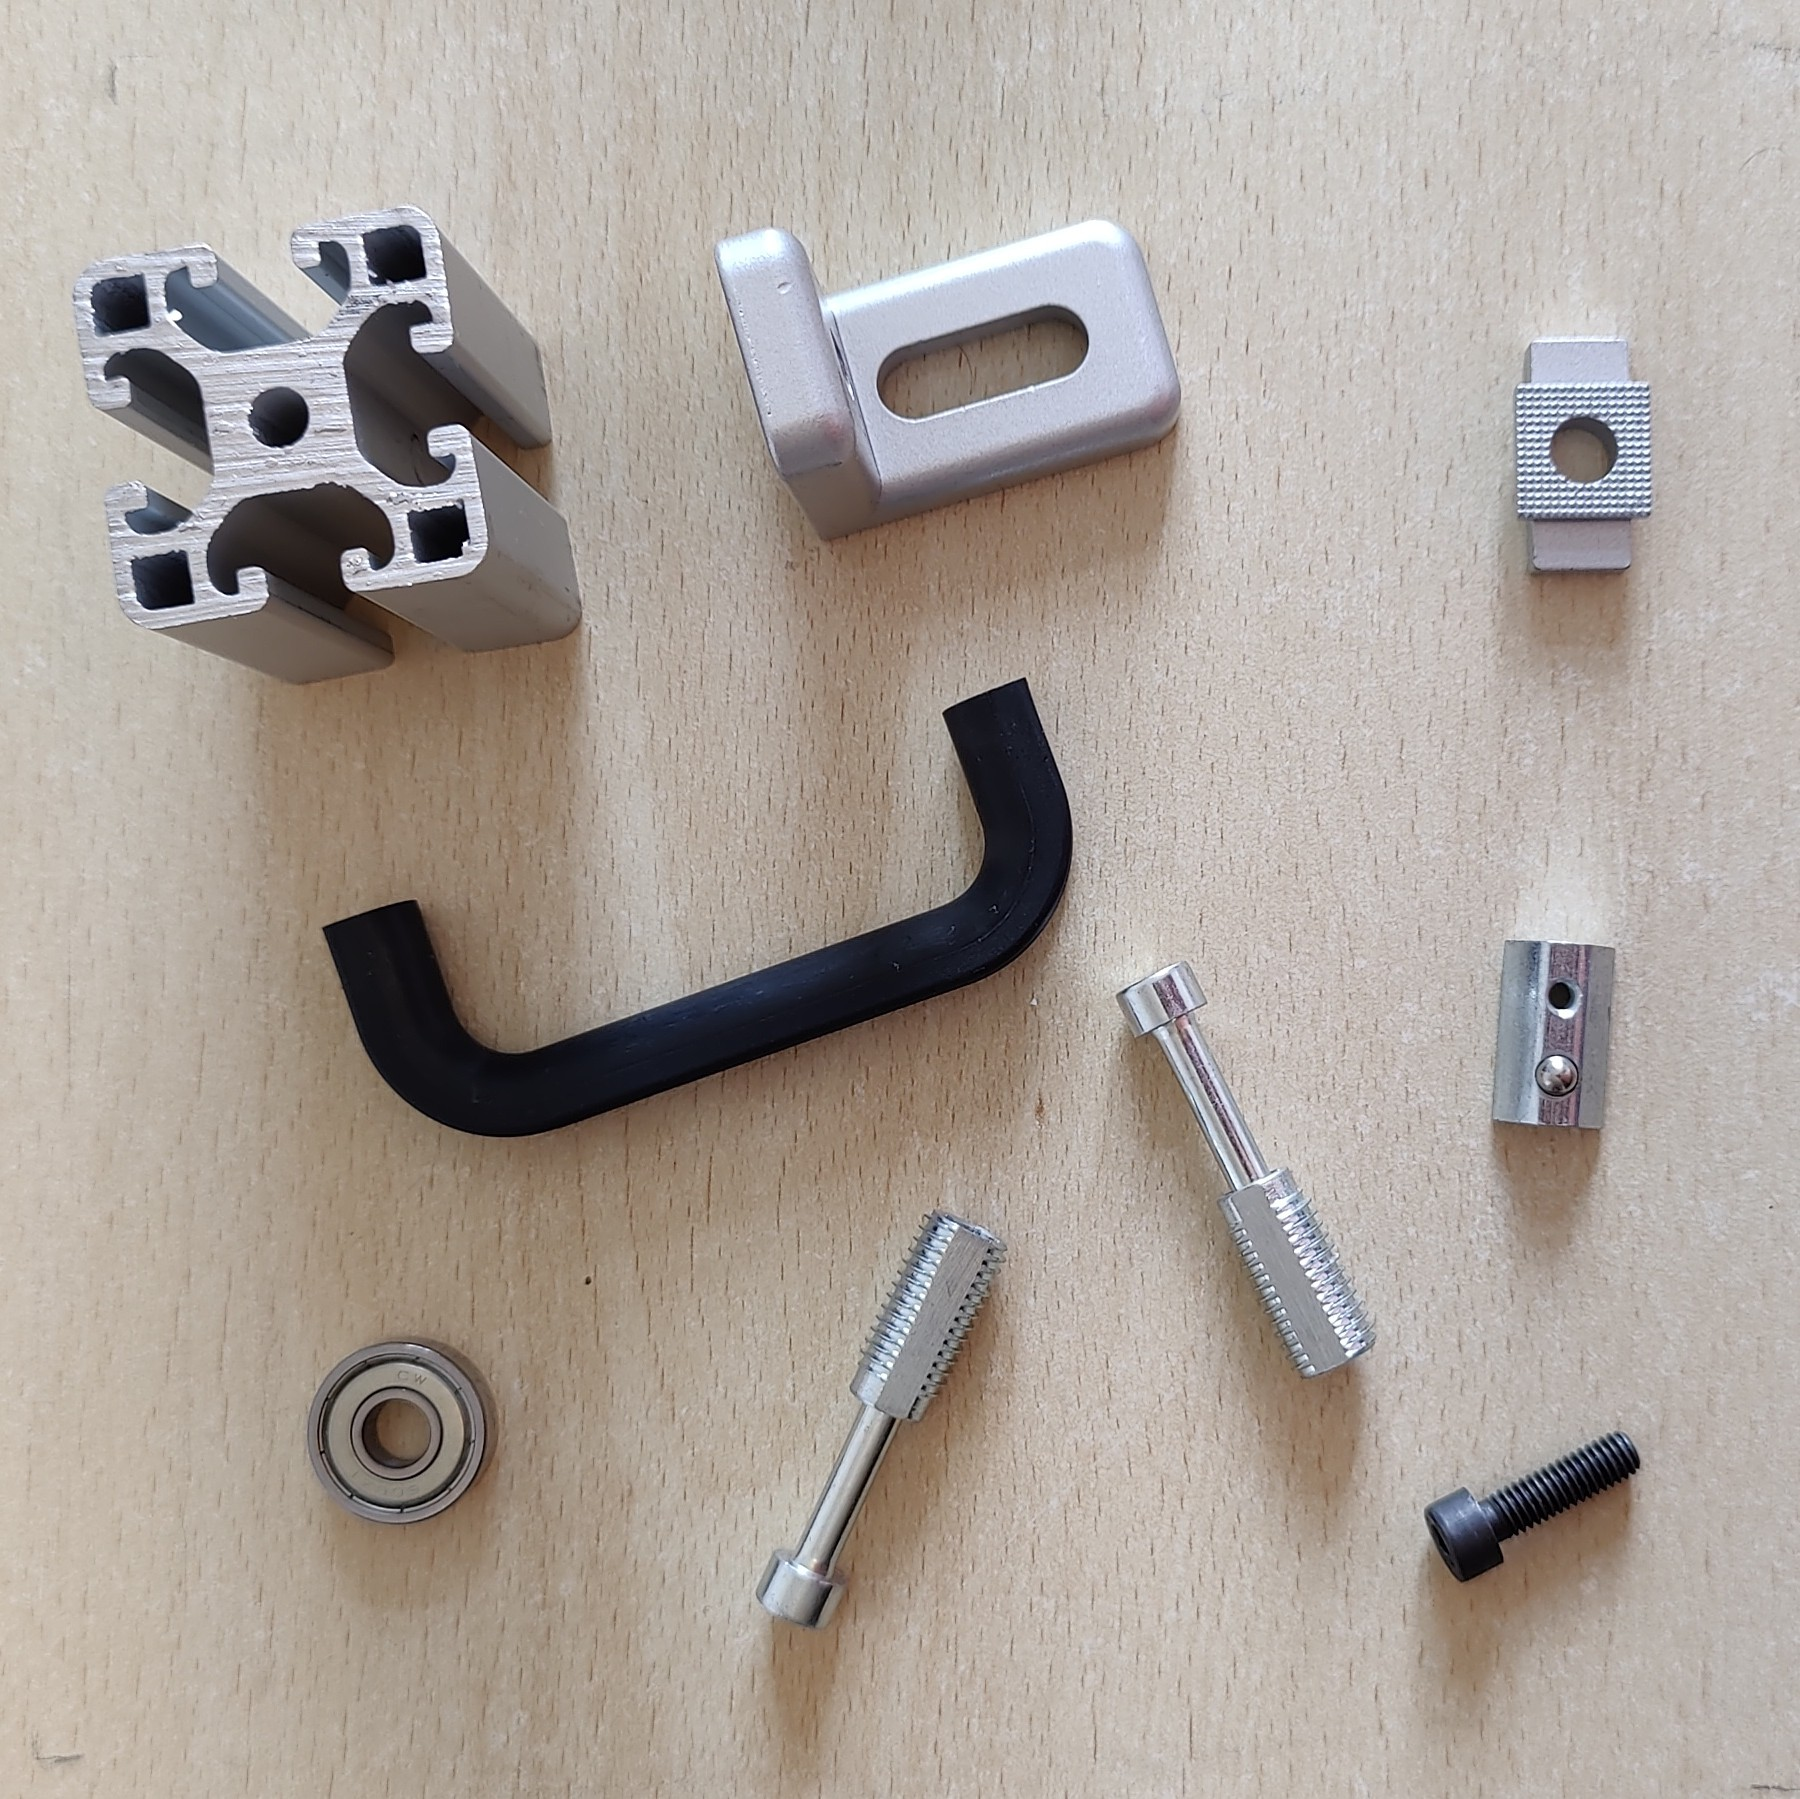Aluminium Extension: (74, 199, 583, 685)
Ball Bearing: (305, 1329, 501, 1529)
Multiwinkel: (711, 216, 1182, 545)
Pull Handle: (319, 672, 1077, 1140)
Shoulder Socket Head Cap Screw: (1112, 957, 1382, 1382), (753, 1206, 1013, 1631)
Socket Head Cap Screw: (1421, 1427, 1644, 1588)
T Nut Square: (1509, 334, 1657, 583)
T Spring Nut: (1489, 937, 1616, 1133)
